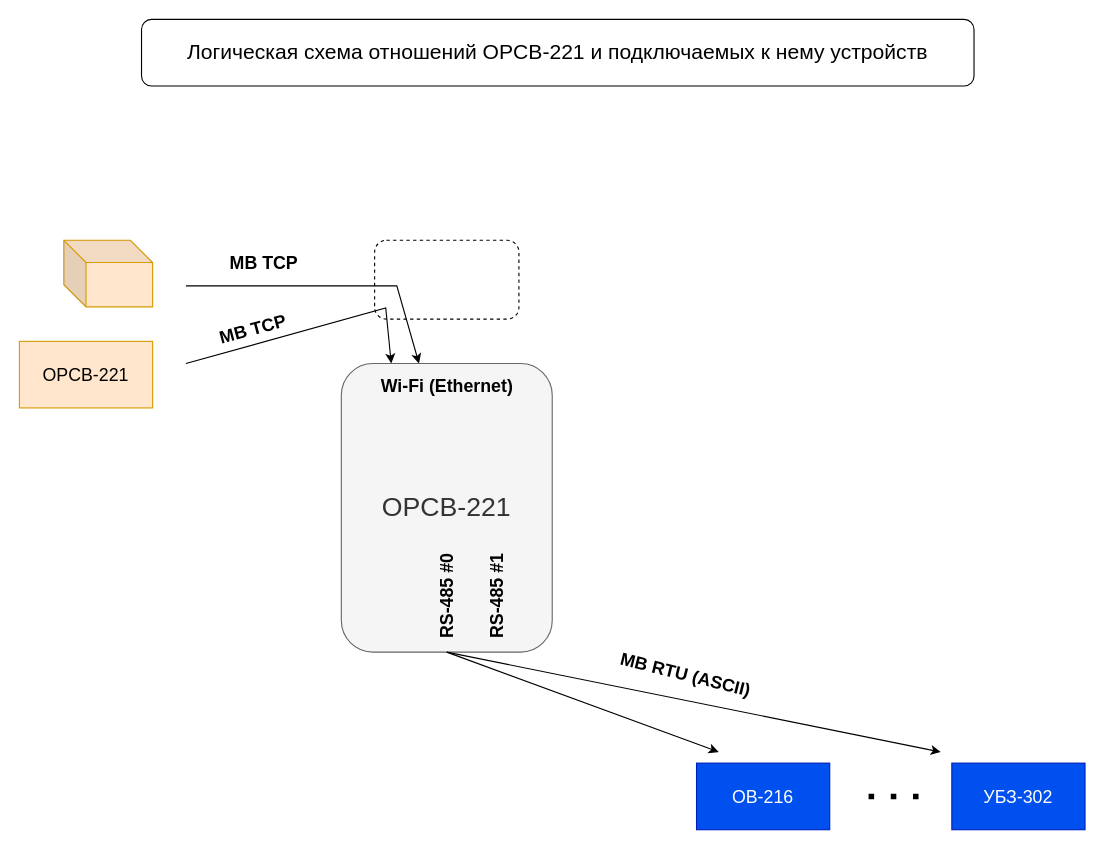
This 1104x849 diagram has some shape labels left out. The shapes that lost their labels are listed below. From the top down, each one's box as (x1, y1, x2, y2) in pixels, then its label:
(63, 239, 153, 307): PC
(374, 239, 519, 319): Router
